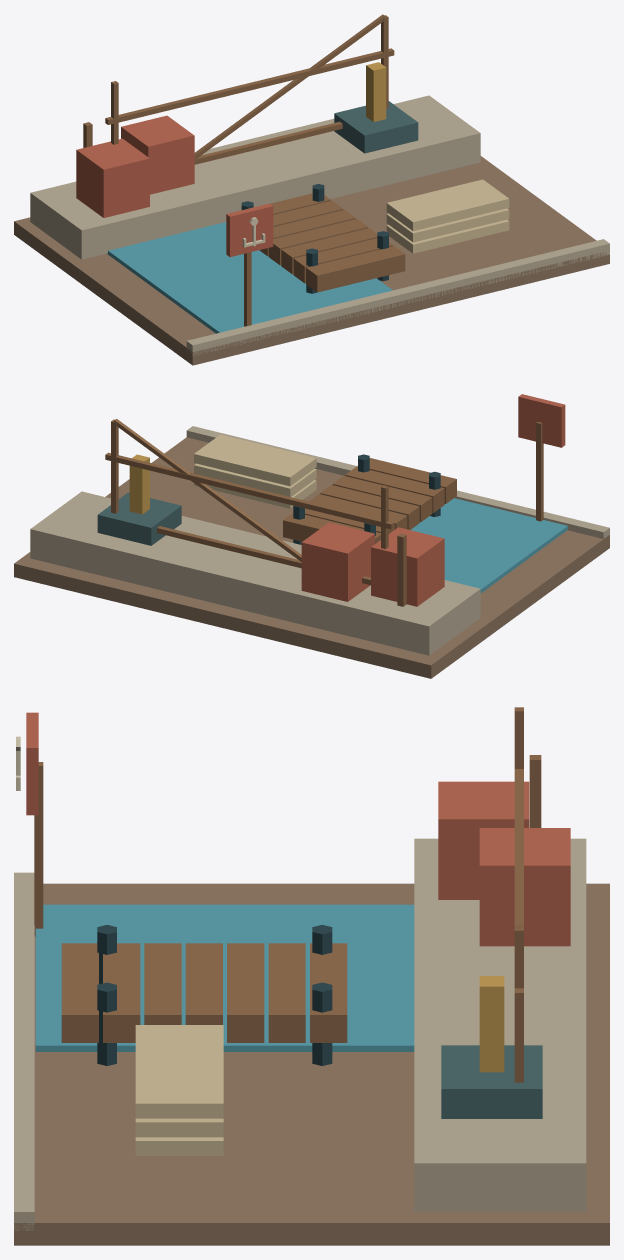
File: harbor-sunrise-half-built.glb
3 views of the same model, one above another, from view 1: azimuth 30°, elevation 25°; view 2: azimuth 150°, elevation 25°; view 3: azimuth 270°, elevation 25° (orthographic). The views are drawn at different scales.
Parts seen in each view (by area): view 1: harbor; view 2: harbor; view 3: harbor.
Part boxes in pixels (x1=…): harbor: x1=14, y1=14, x2=609, y2=365; harbor: x1=14, y1=394, x2=609, y2=678; harbor: x1=14, y1=707, x2=609, y2=1245.
Size of the model in its own units: 3.88 by 1.39 by 2.88.
